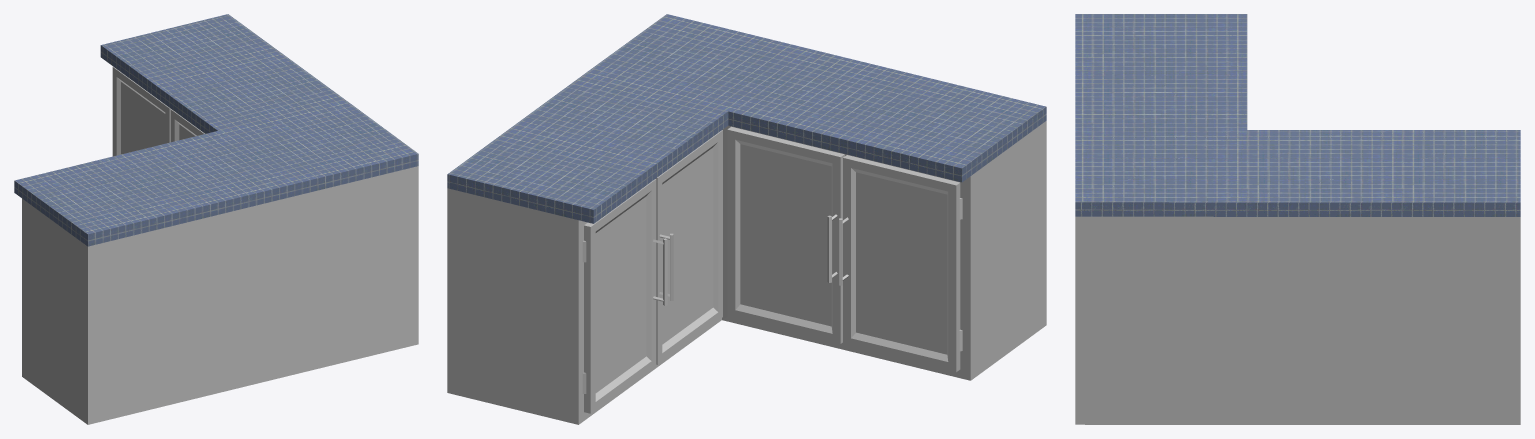
The model's file is Uglovoi Yashik.fbx.
The picture shows the model from 3 angles, left to right: view 1: azimuth 30°, elevation 25°; view 2: azimuth 150°, elevation 25°; view 3: azimuth 270°, elevation 25°; orthographic projection. The views are drawn at different scales.
Parts seen in each view (by area): view 1: Cube.081, Cube.085, Cube.086; view 2: Cube.081, Cube.083, Cube.082, Cube.085, Cube.086; view 3: Cube.081.
Boxes of the visible parts, <box> form: Cube.081: <box>14,14,418,424</box>; Cube.085: <box>112,66,170,156</box>; Cube.086: <box>170,109,204,142</box>; Cube.081: <box>447,14,1046,424</box>; Cube.083: <box>839,155,962,372</box>; Cube.082: <box>727,126,844,343</box>; Cube.085: <box>582,179,667,413</box>; Cube.086: <box>655,130,722,364</box>; Cube.081: <box>1075,14,1520,424</box>.
Bounding box in the file's own units: 375 × 206 × 375.
